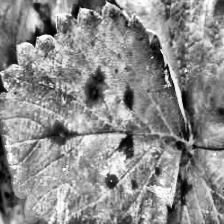Leaf Spot: (0, 1, 191, 224), (109, 0, 224, 150), (112, 142, 224, 224)
